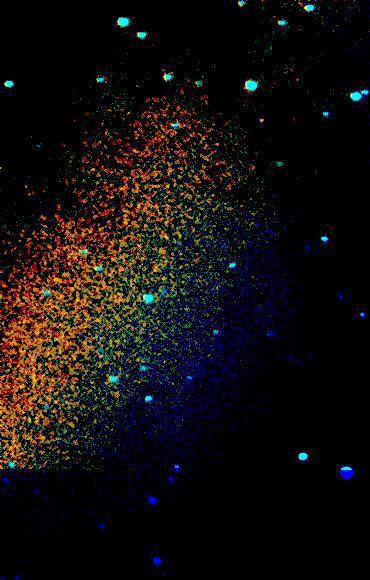star: (247, 104, 277, 134)
